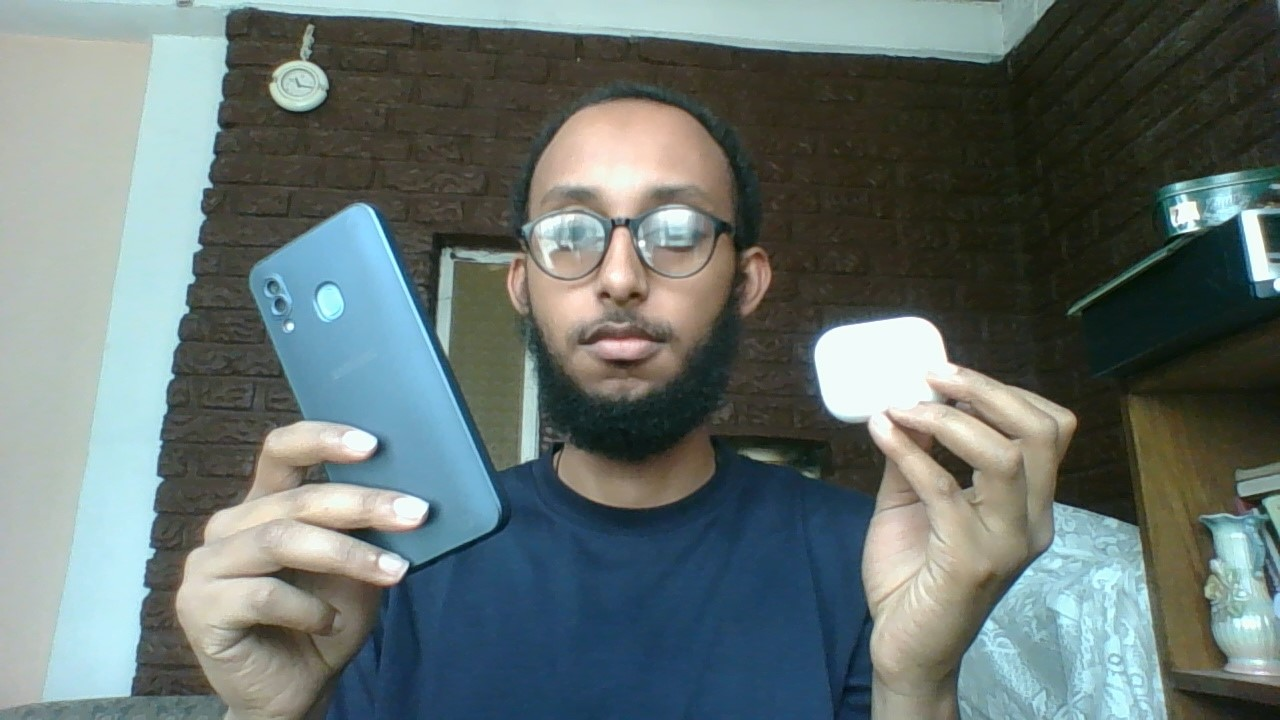Air_pod: (810, 313, 957, 428)
Smart_phone: (244, 194, 518, 582)
